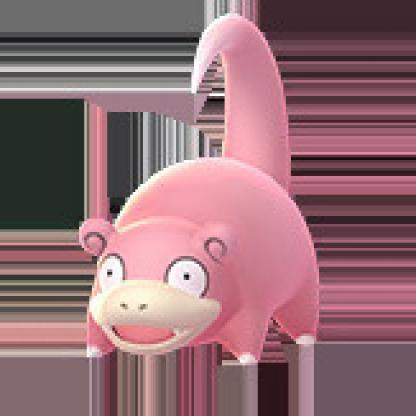Slowpoke: (73, 6, 331, 370)
